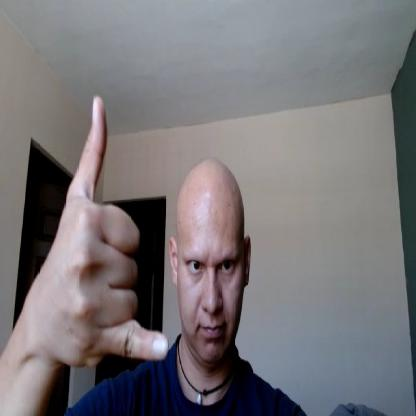Y: (30, 94, 171, 368)
